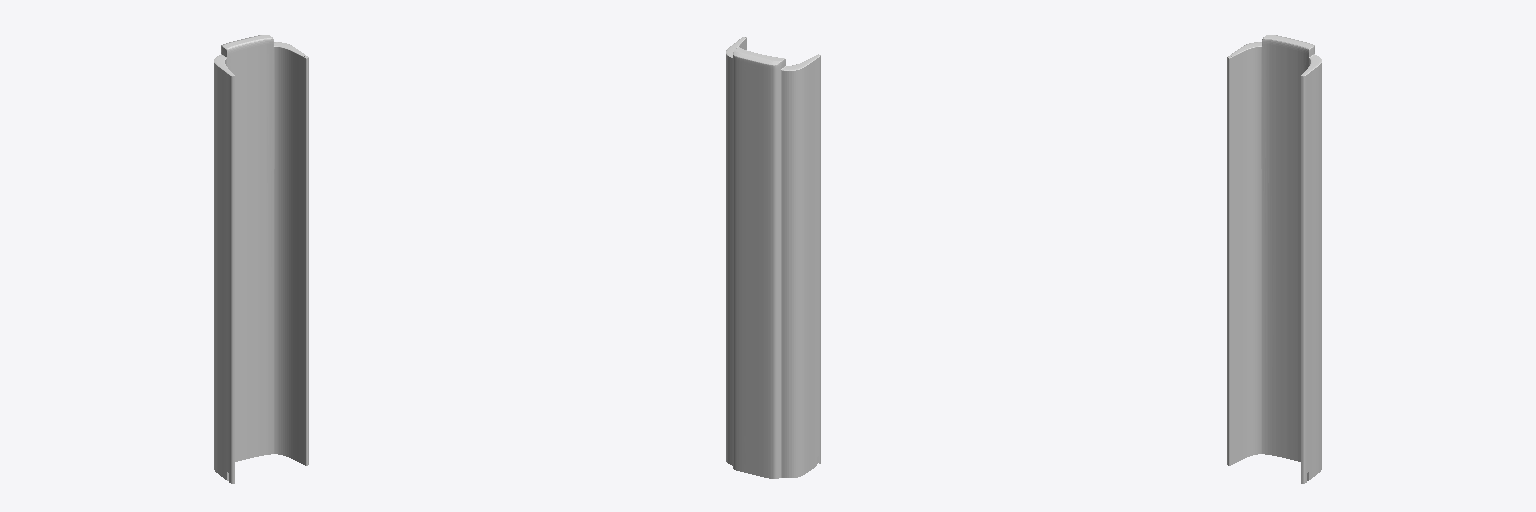
File: lowerbody.obj
The picture shows the model from 3 angles: view 1: azimuth 30°, elevation 25°; view 2: azimuth 150°, elevation 25°; view 3: azimuth 330°, elevation 25°; orthographic projection.
Visible parts, largest first — view 1: xray01; view 2: xray01; view 3: xray01.
Boxes of the visible parts, box(x1,y1,x2,y2) form: xray01: box(214, 35, 308, 483); xray01: box(726, 37, 820, 478); xray01: box(1227, 35, 1321, 483).
Size of the model in its own units: 298 by 1520 by 196.